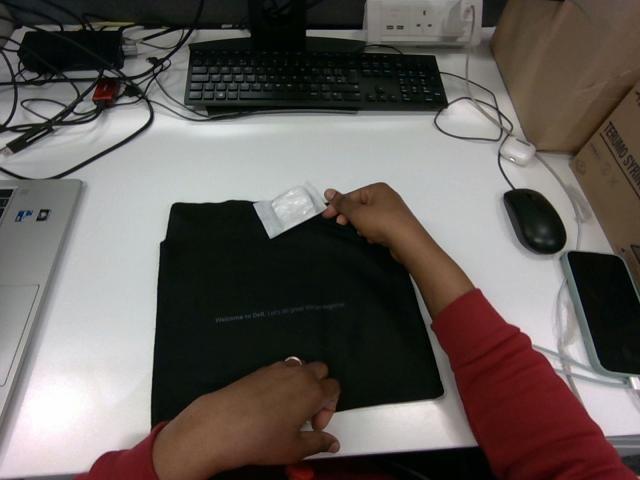gauze: (254, 182, 326, 237)
